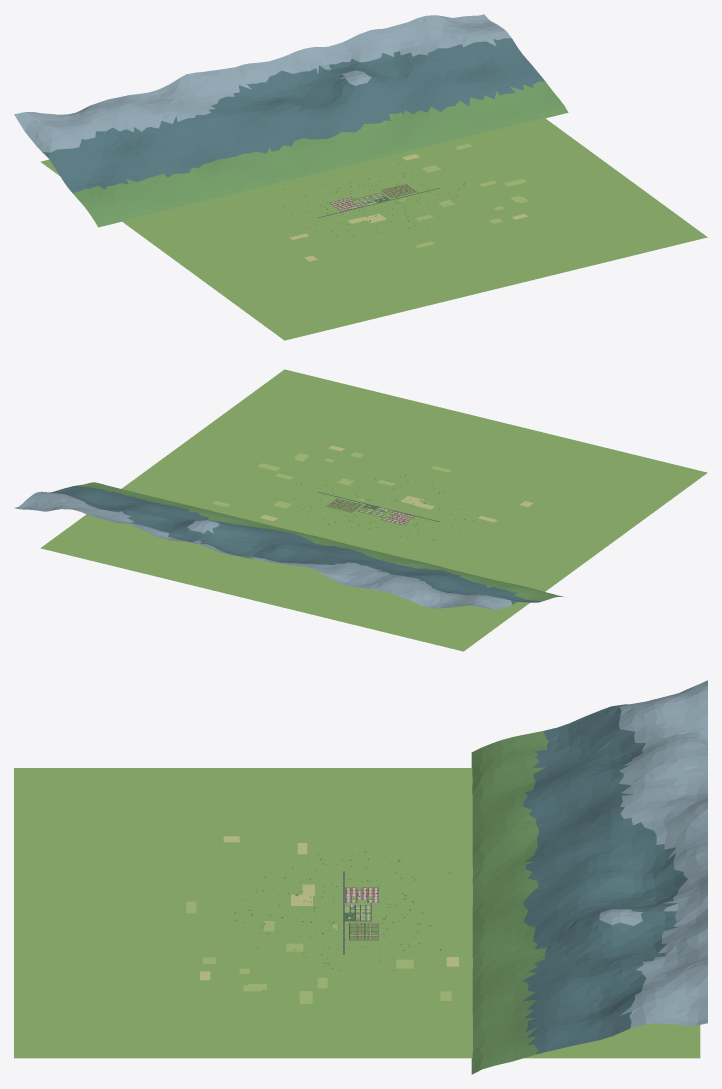
The model's file is bosque-dos-pinheiros.glb.
The picture shows the model from 3 angles, top to bottom: view 1: azimuth 30°, elevation 25°; view 2: azimuth 150°, elevation 25°; view 3: azimuth 270°, elevation 25°; orthographic projection. The views are drawn at different scales.
Visible parts, largest first — view 1: Entorno_grama, Entorno_serra_alta, Entorno_serra, Entorno_serra_topo, Entorno_campo; view 2: Entorno_grama, Entorno_serra_alta, Entorno_serra_topo, Entorno_serra, Entorno_campo, Entorno_campo_2; view 3: Entorno_grama, Entorno_serra_alta, Entorno_serra_topo, Entorno_serra, Entorno_campo, Entorno_campo_2.
Part boxes in pixels (<box>): Entorno_grama: <box>40,118,707,340</box>; Entorno_serra_alta: <box>42,38,545,193</box>; Entorno_serra: <box>73,81,568,227</box>; Entorno_serra_topo: <box>14,14,511,152</box>; Entorno_campo: <box>398,143,528,247</box>; Entorno_grama: <box>40,369,707,651</box>; Entorno_serra_alta: <box>50,485,541,604</box>; Entorno_serra_topo: <box>14,491,511,609</box>; Entorno_serra: <box>76,482,566,601</box>; Entorno_campo: <box>212,452,451,508</box>; Entorno_campo_2: <box>260,445,533,522</box>; Entorno_grama: <box>14,768,700,1058</box>; Entorno_serra_alta: <box>522,704,687,1054</box>; Entorno_serra_topo: <box>599,680,707,1028</box>; Entorno_serra: <box>471,731,548,1074</box>; Entorno_campo: <box>186,901,451,1003</box>; Entorno_campo_2: <box>200,836,458,980</box>.
Size of the model in its own units: 10000 by 1048 by 9100.
